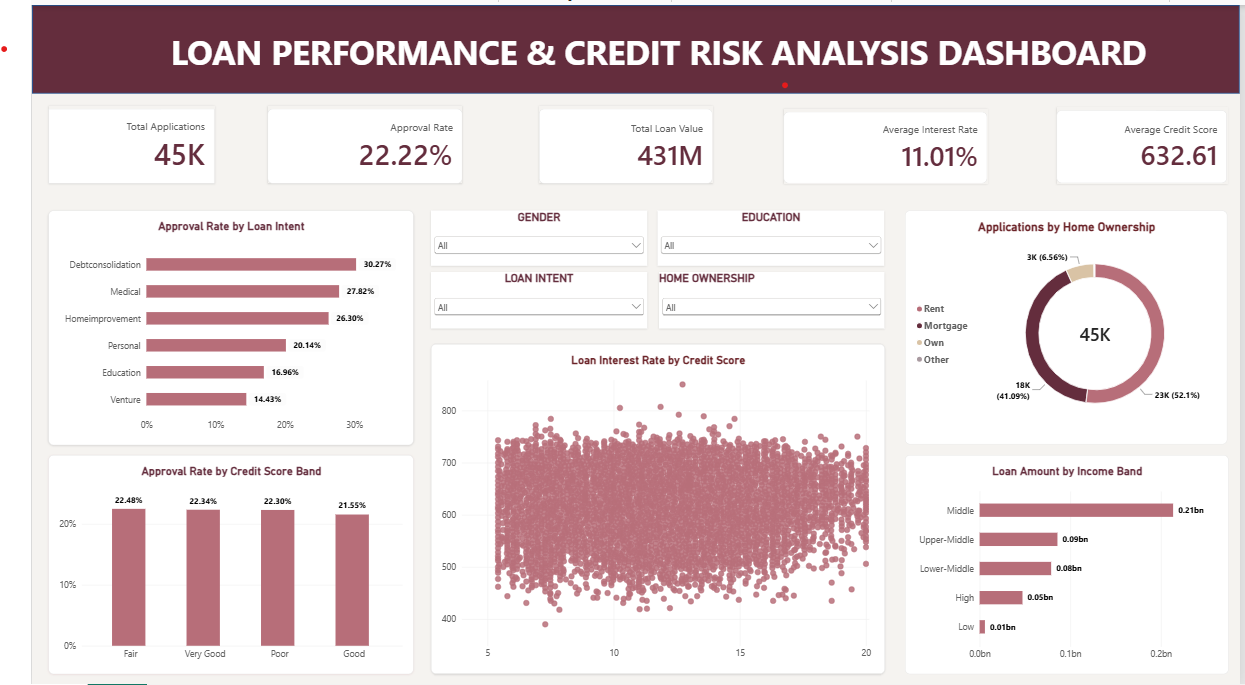

This screenshot's page, from the dashboard's own definition file:
{"tool":"powerbi","page":{"name":"Page 1","canvas":[1920,1080],"ordinal":0},"visuals":[{"type":"textbox","box":[10,0,280,280],"z":0},{"type":"shape","box":[0,0,1920.7,140.8],"z":1000},{"type":"textbox","box":[204.9,39,1582.9,100],"z":2000},{"type":"cardVisual","fields":{"Data":["loan_data.Total Applications"]},"box":[26.2,159.9,264.8,124.1],"z":3000},{"type":"cardVisual","fields":{"Data":["loan_data.Approval Rate"]},"box":[374.6,159.9,310.2,124.1],"z":4000},{"type":"cardVisual","fields":{"Data":["loan_data.Average Interest Rate"]},"box":[1195.3,164.6,324.4,119.5],"z":5000},{"type":"cardVisual","fields":{"Data":["loan_data.Average Credit Score"]},"box":[1629.6,162.2,272,121.7],"z":6000},{"type":"cardVisual","fields":{"Data":["loan_data.Total Loan Value"]},"box":[806.4,159.9,276.8,124.1],"z":7000},{"type":"clusteredBarChart","title":"Approval Rate by Loan Intent","fields":{"Category":["loan_data.loan_intent"],"Y":["loan_data.Approval Rate"]},"box":[26.8,326.8,580.5,373.2],"z":8000},{"type":"clusteredColumnChart","title":"Approval Rate by Credit Score Band","fields":{"Category":["loan_data.credit_score_band"],"Y":["loan_data.Approval Rate"]},"box":[26.8,714.6,580.5,348.8],"z":9000},{"type":"scatterChart","title":"Loan Interest Rate by Credit Score","fields":{"X":["loan_data.loan_int_rate"],"Y":["loan_data.credit_score"]},"box":[634.1,539,722,524.4],"z":10000},{"type":"donutChart","title":"Applications by Home Ownership","fields":{"Category":["loan_data.person_home_ownership"],"Y":["loan_data.Total Applications"]},"box":[1388.6,326.9,513,372.2],"z":11000},{"type":"clusteredBarChart","title":"Loan Amount by Income Band","fields":{"Category":["loan_data.income_band"],"Y":["Sum(loan_data.loan_amnt)"]},"box":[1387.8,714.6,514.6,348.8],"z":12000},{"type":"slicer","title":"GENDER","fields":{"Values":["loan_data.person_gender"]},"box":[634.1,326.8,343.9,87.8],"z":13000},{"type":"slicer","title":"EDUCATION","fields":{"Values":["loan_data.person_education"]},"box":[995.1,326.8,361,87.8],"z":14000},{"type":"slicer","title":"LOAN INTENT","fields":{"Values":["loan_data.loan_intent"]},"box":[634.1,424.4,343.9,90.2],"z":15000},{"type":"slicer","title":"HOME OWNERSHIP","fields":{"Values":["loan_data.person_home_ownership"]},"box":[997.6,424.4,358.5,90.2],"z":16000}]}

Visuals, with their boxes in screenshot pixels (x1, y1, x2, y2), scaled from the page's 1920x1080 canvas onto the 1245x685 screenshot:
textbox: 6:0:188:178
shape: 0:0:1244:89
textbox: 133:25:1159:88
cardVisual - loan_data.Total Applications: 17:101:189:180
cardVisual - loan_data.Approval Rate: 243:101:444:180
cardVisual - loan_data.Average Interest Rate: 775:104:985:180
cardVisual - loan_data.Average Credit Score: 1057:103:1233:180
cardVisual - loan_data.Total Loan Value: 523:101:702:180
"Approval Rate by Loan Intent" clusteredBarChart: 17:207:394:444
"Approval Rate by Credit Score Band" clusteredColumnChart: 17:453:394:674
"Loan Interest Rate by Credit Score" scatterChart: 411:342:879:674
"Applications by Home Ownership" donutChart: 900:207:1233:443
"Loan Amount by Income Band" clusteredBarChart: 900:453:1234:674
"GENDER" slicer: 411:207:634:263
"EDUCATION" slicer: 645:207:879:263
"LOAN INTENT" slicer: 411:269:634:326
"HOME OWNERSHIP" slicer: 647:269:879:326
